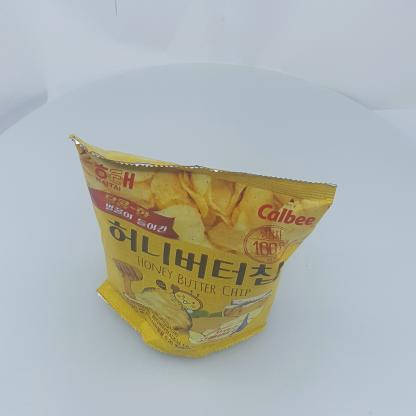Plastic Packaging: (63, 128, 341, 368)
